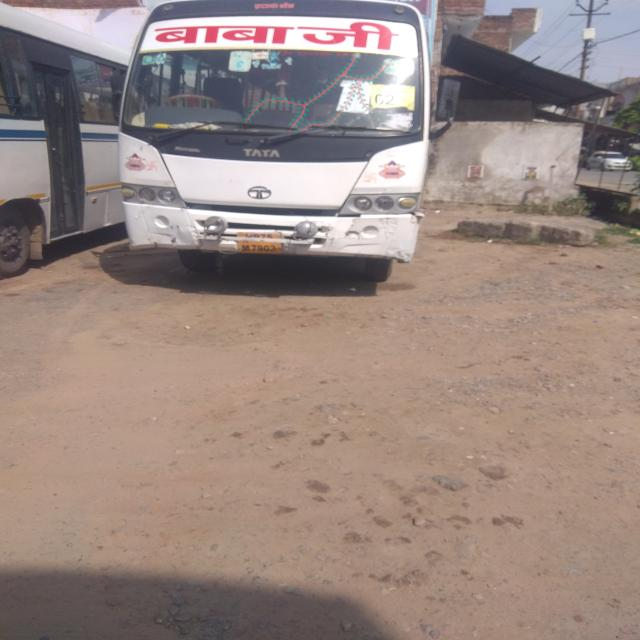Bus: (120, 0, 430, 282), (0, 5, 130, 278)
